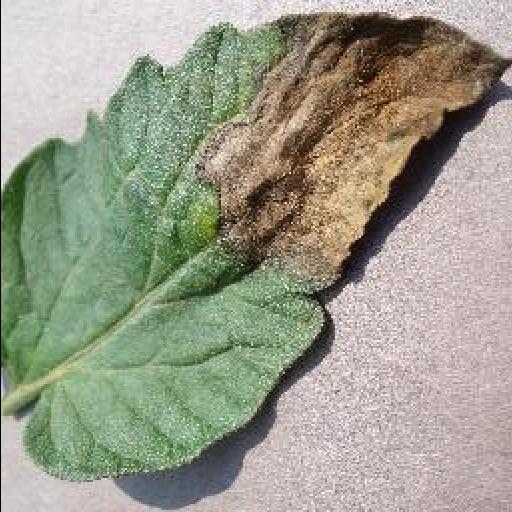disease_tomato: (0, 12, 512, 484)
